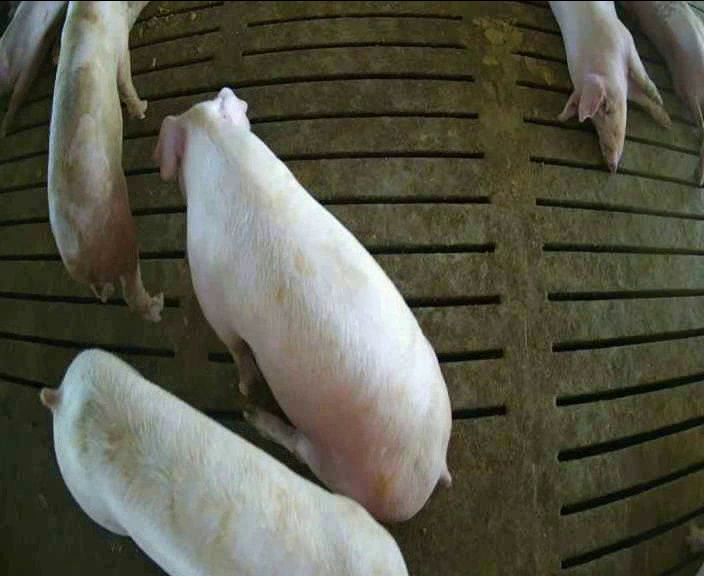pig: (157, 88, 449, 518), (41, 349, 406, 573), (48, 2, 162, 320), (550, 2, 669, 171)
